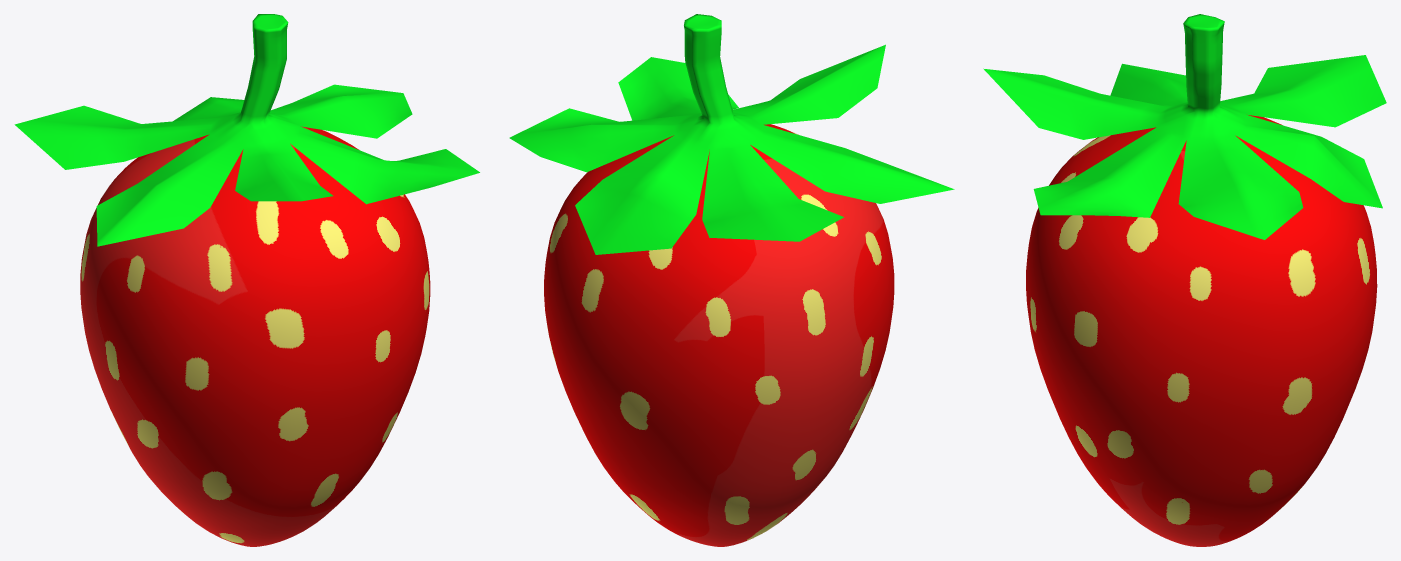
Rendered from strawberry03.fbx.
3 views of the same model, side by side, from view 1: azimuth 30°, elevation 25°; view 2: azimuth 150°, elevation 25°; view 3: azimuth 270°, elevation 25° (orthographic). The views are drawn at different scales.
Visible parts, largest first — view 1: Strawberry, Heta; view 2: Strawberry, Heta; view 3: Strawberry, Heta.
Part boxes in pixels (x1=…): Strawberry: x1=80, y1=126, x2=430, y2=546; Heta: x1=14, y1=14, x2=479, y2=246; Strawberry: x1=544, y1=124, x2=894, y2=546; Heta: x1=509, y1=14, x2=954, y2=254; Strawberry: x1=1026, y1=115, x2=1377, y2=546; Heta: x1=983, y1=14, x2=1386, y2=239.
Size of the model in its own units: 144 by 189 by 131.
Materials: 2 (2 with a texture image).
